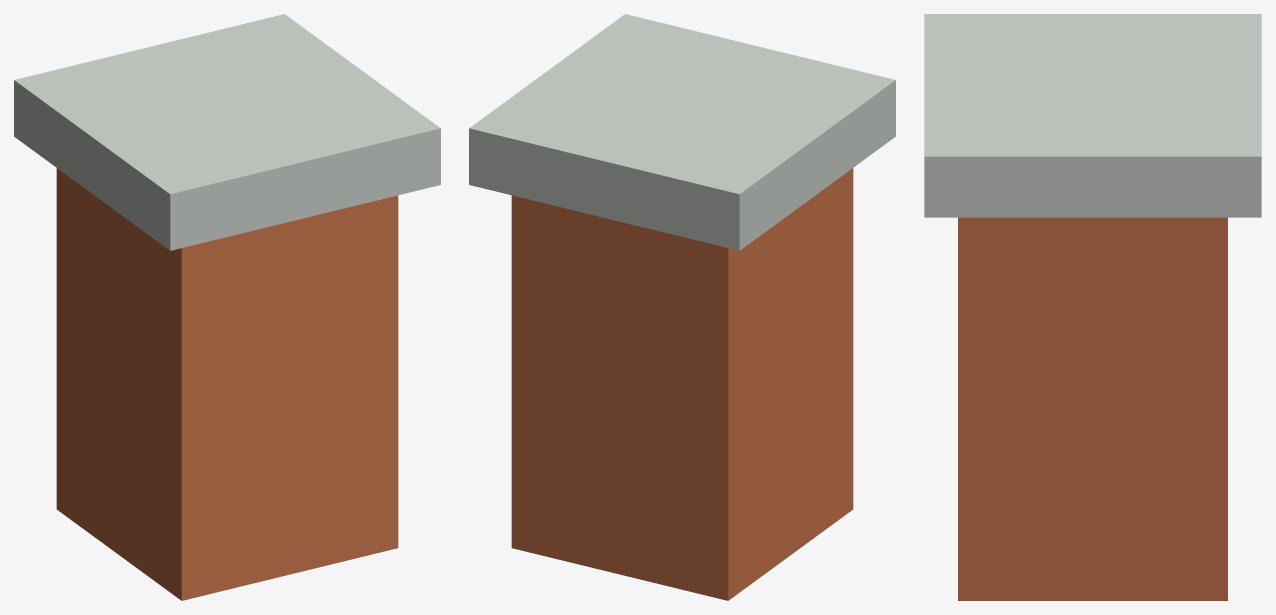
Rendered from chimney.glb.
3 views of the same model, side by side, from view 1: azimuth 30°, elevation 25°; view 2: azimuth 150°, elevation 25°; view 3: azimuth 270°, elevation 25° (orthographic). The views are drawn at different scales.
Visible parts, largest first — view 1: chimney; view 2: chimney; view 3: chimney.
Part boxes in pixels (x1,y1,x2,y2): chimney: (14, 14, 440, 600); chimney: (469, 14, 895, 600); chimney: (924, 14, 1261, 600).
Size of the model in its own units: 1 by 1.5 by 1.
